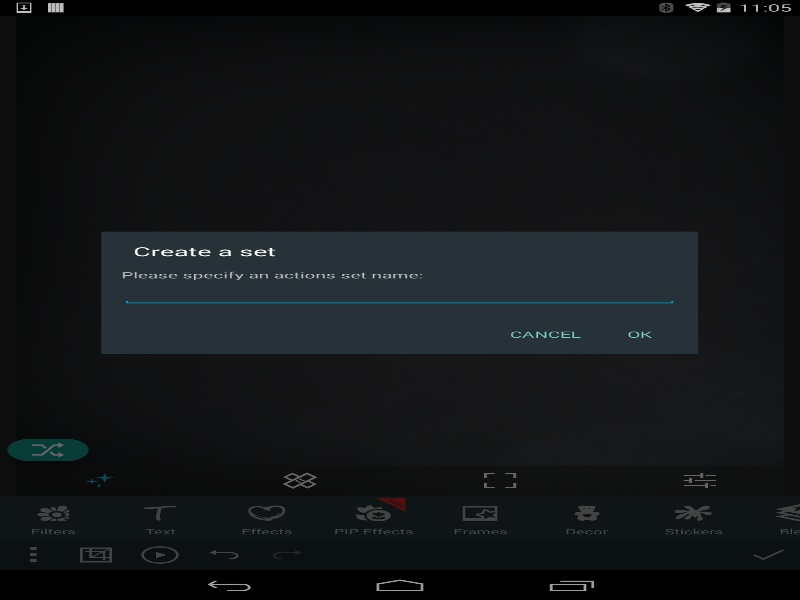Button: (494, 317, 596, 351), (596, 317, 682, 351)
Input: (121, 280, 678, 305)
